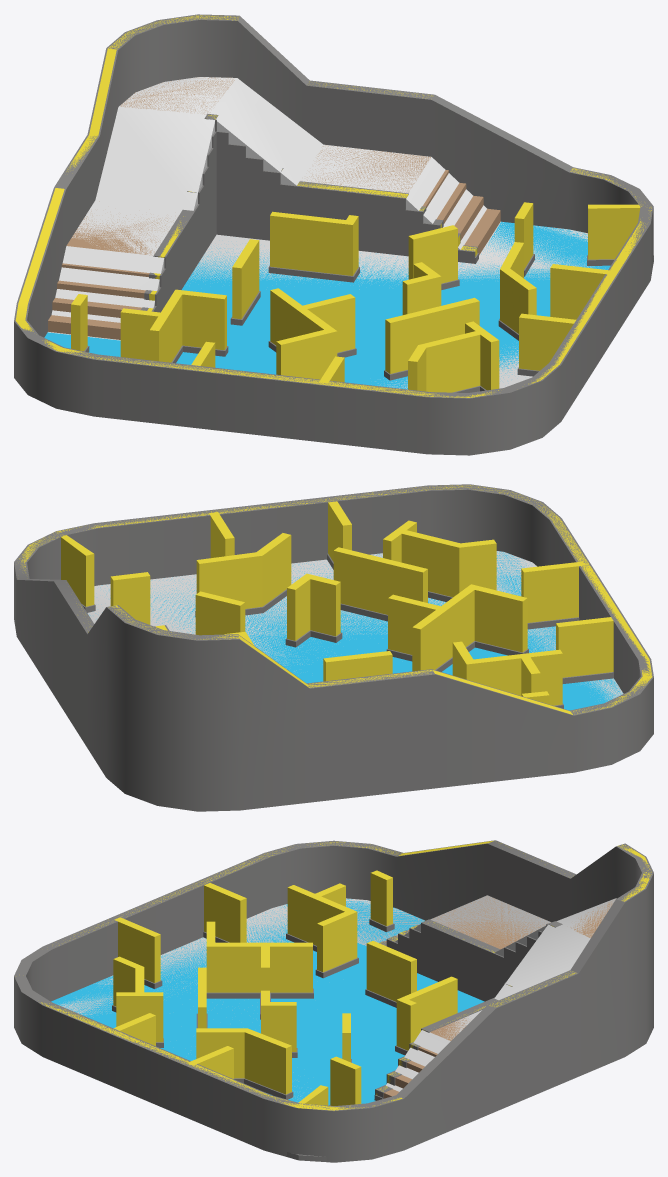
Rendered from Location10.fbx.
The picture shows the model from 3 angles, top to bottom: view 1: azimuth 30°, elevation 25°; view 2: azimuth 150°, elevation 25°; view 3: azimuth 270°, elevation 25°; orthographic projection. The views are drawn at different scales.
Visible parts, largest first — view 1: outer_wall.10, wall.10, outer_no_stripes.10, water.10, floor.10; view 2: outer_wall.10, wall.10, water.10, outer_no_stripes.10; view 3: outer_wall.10, wall.10, water.10, outer_no_stripes.10, floor.10.
Part boxes in pixels (left/top/right/bottom): outer_wall.10: left=14, top=14, right=653, bottom=455; wall.10: left=15, top=15, right=653, bottom=397; outer_no_stripes.10: left=48, top=77, right=600, bottom=389; water.10: left=44, top=221, right=610, bottom=389; floor.10: left=48, top=77, right=500, bottom=339; outer_wall.10: left=14, top=484, right=653, bottom=811; wall.10: left=19, top=485, right=652, bottom=714; water.10: left=89, top=551, right=622, bottom=710; outer_no_stripes.10: left=87, top=551, right=623, bottom=702; outer_wall.10: left=14, top=840, right=653, bottom=1162; wall.10: left=41, top=840, right=651, bottom=1161; water.10: left=51, top=899, right=484, bottom=1105; outer_no_stripes.10: left=58, top=895, right=616, bottom=1099; floor.10: left=383, top=896, right=615, bottom=1098.
Size of the model in its own units: 2052 by 548 by 2052.
